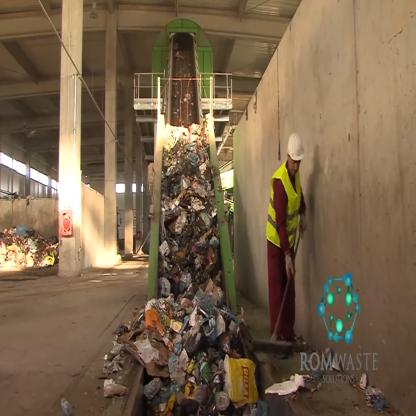Glass Bottle: (196, 350, 212, 388)
